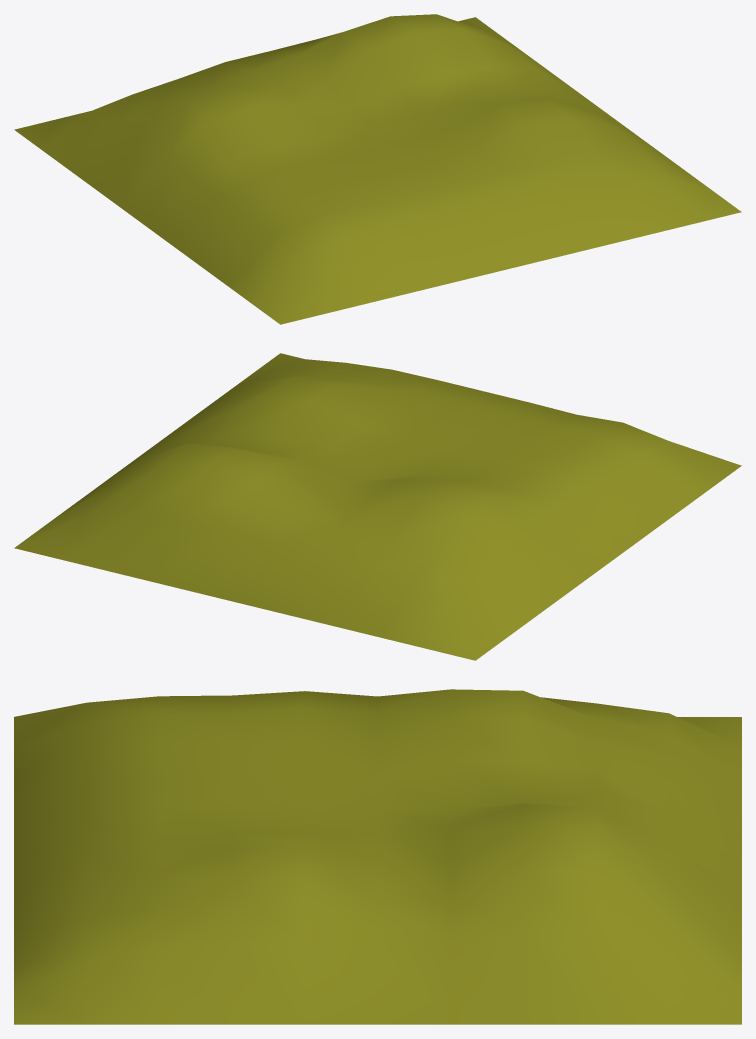
File: terrain00.glb
3 views of the same model, one above another, from view 1: azimuth 30°, elevation 25°; view 2: azimuth 150°, elevation 25°; view 3: azimuth 270°, elevation 25° (orthographic). The views are drawn at different scales.
Visible parts, largest first — view 1: Terrain; view 2: Terrain; view 3: Terrain.
Boxes of the visible parts, x1=… form: Terrain: x1=14, y1=14, x2=741, y2=324; Terrain: x1=14, y1=353, x2=741, y2=660; Terrain: x1=14, y1=689, x2=741, y2=1024.
Size of the model in its own units: 100 by 15.73 by 100.
